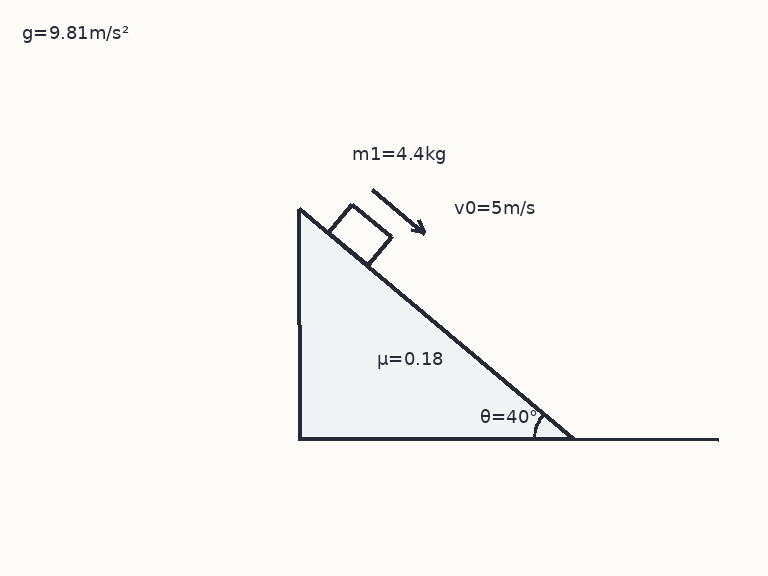block: (326, 202, 393, 267)
ramp: (297, 206, 576, 441)
